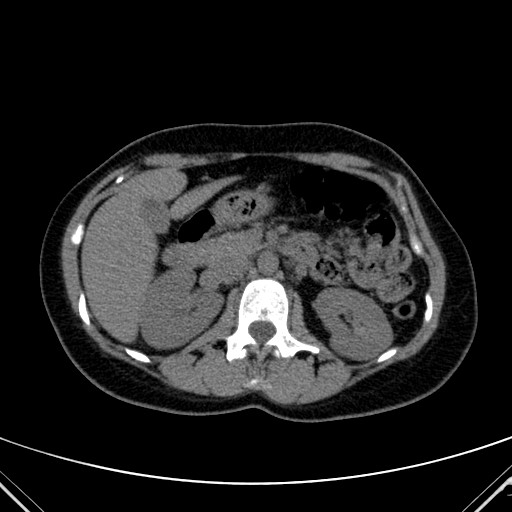vesicula: (139, 196, 172, 236)
